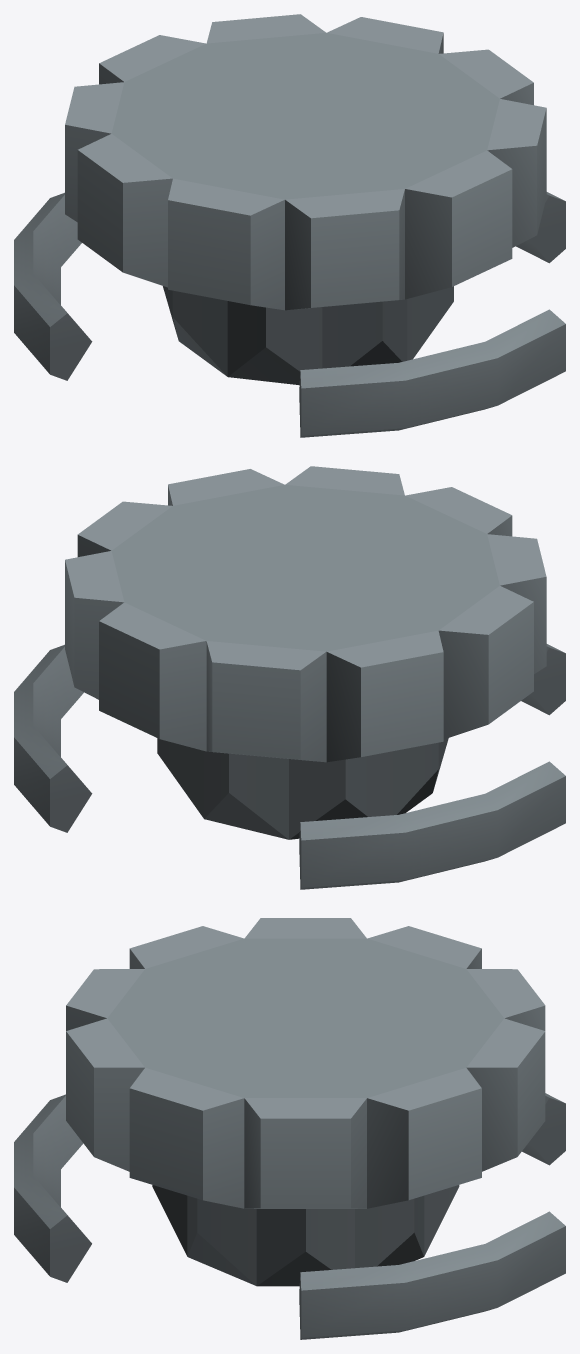
Rendered from turret_base.obj.
The picture shows the model from 3 angles, top to bottom: view 1: azimuth 30°, elevation 25°; view 2: azimuth 150°, elevation 25°; view 3: azimuth 270°, elevation 25°; orthographic projection.
Parts seen in each view (by area): view 1: turret_base; view 2: turret_base; view 3: turret_base.
Part boxes in pixels (box(x1,y1,x2,y2)): turret_base: box(14, 14, 565, 437); turret_base: box(14, 466, 565, 889); turret_base: box(14, 918, 565, 1339).
Bounding box in the file's own units: 0.7048 × 0.2845 × 0.6531.
Materials: 1 (1 with a texture image).
